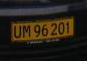0: (58, 22, 65, 35)
1: (65, 20, 70, 35)
2: (50, 22, 58, 36)
6: (41, 24, 49, 37)
9: (33, 24, 41, 38)
M: (22, 25, 31, 38)
U: (14, 25, 22, 38)
